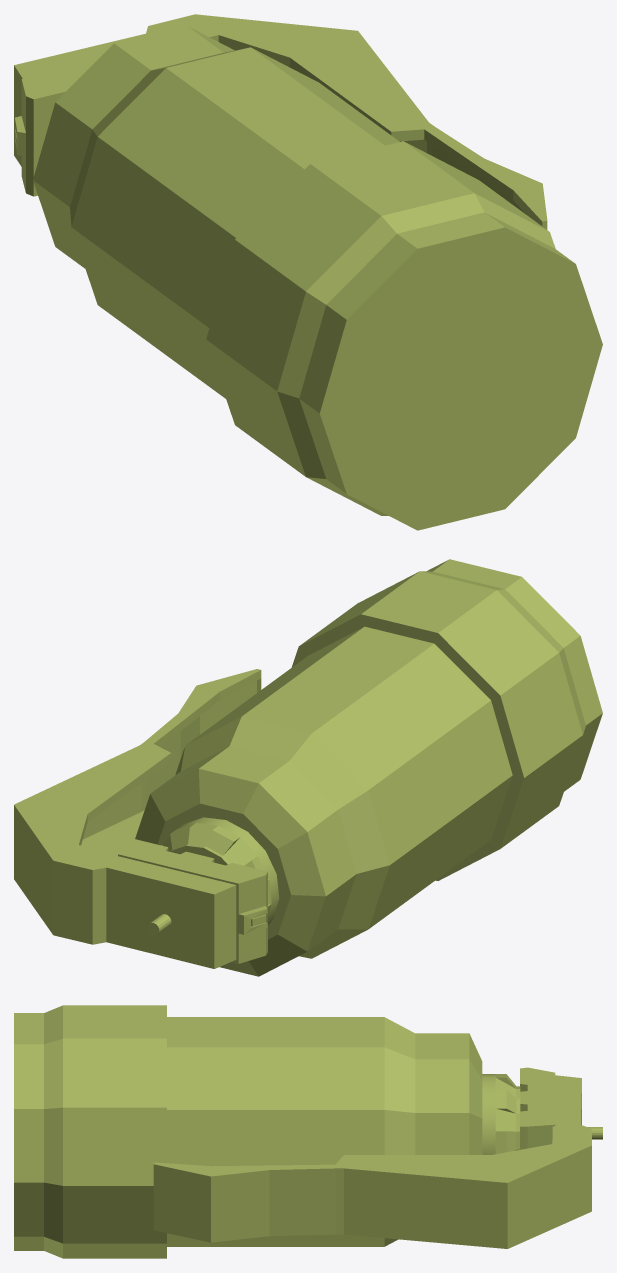
The model's file is grenade2_lowpoly.FBX.
3 views of the same model, one above another, from view 1: azimuth 30°, elevation 25°; view 2: azimuth 150°, elevation 25°; view 3: azimuth 270°, elevation 25° (orthographic). The views are drawn at different scales.
Parts seen in each view (by area): view 1: grenade2_lowpoly; view 2: grenade2_lowpoly; view 3: grenade2_lowpoly.
Boxes of the visible parts, x1=… form: grenade2_lowpoly: x1=14, y1=14, x2=602, y2=530; grenade2_lowpoly: x1=14, y1=559, x2=602, y2=976; grenade2_lowpoly: x1=14, y1=1005, x2=602, y2=1258.
Size of the model in its own units: 73.98 by 55.18 by 134.
